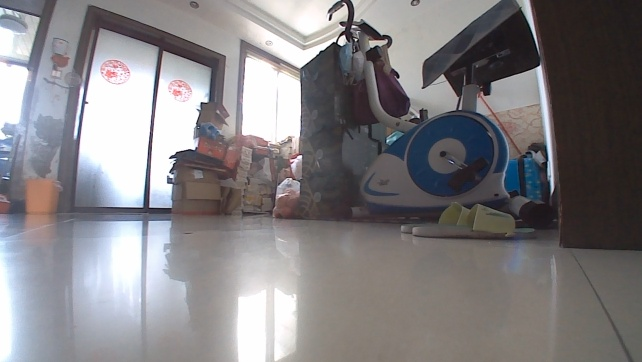slipper: (396, 198, 538, 241)
